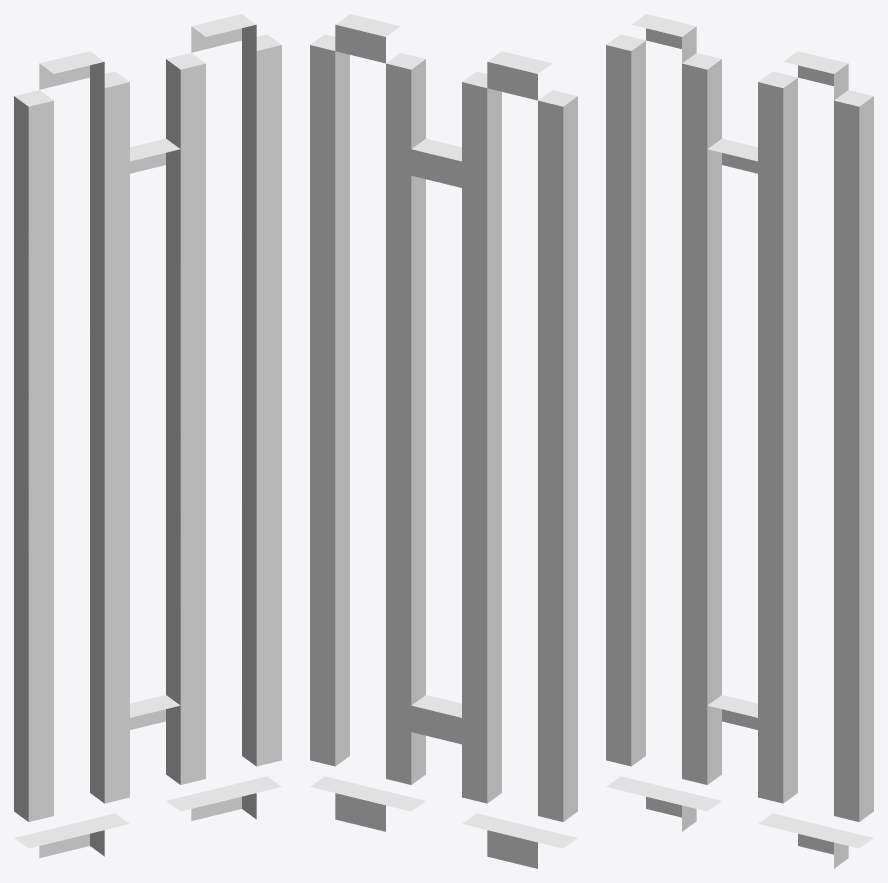
3 renders of one model, left to right at view 1: azimuth 30°, elevation 25°; view 2: azimuth 150°, elevation 25°; view 3: azimuth 330°, elevation 25°, orthographic.
Parts seen in each view (by area): view 1: cube; view 2: cube; view 3: cube.
Boxes of the visible parts, x1,y1,x2,y2 form: cube: [14, 14, 281, 858]; cube: [310, 14, 577, 868]; cube: [606, 14, 873, 868].
Size of the model in its own units: 0.625 by 1.88 by 0.0625.
